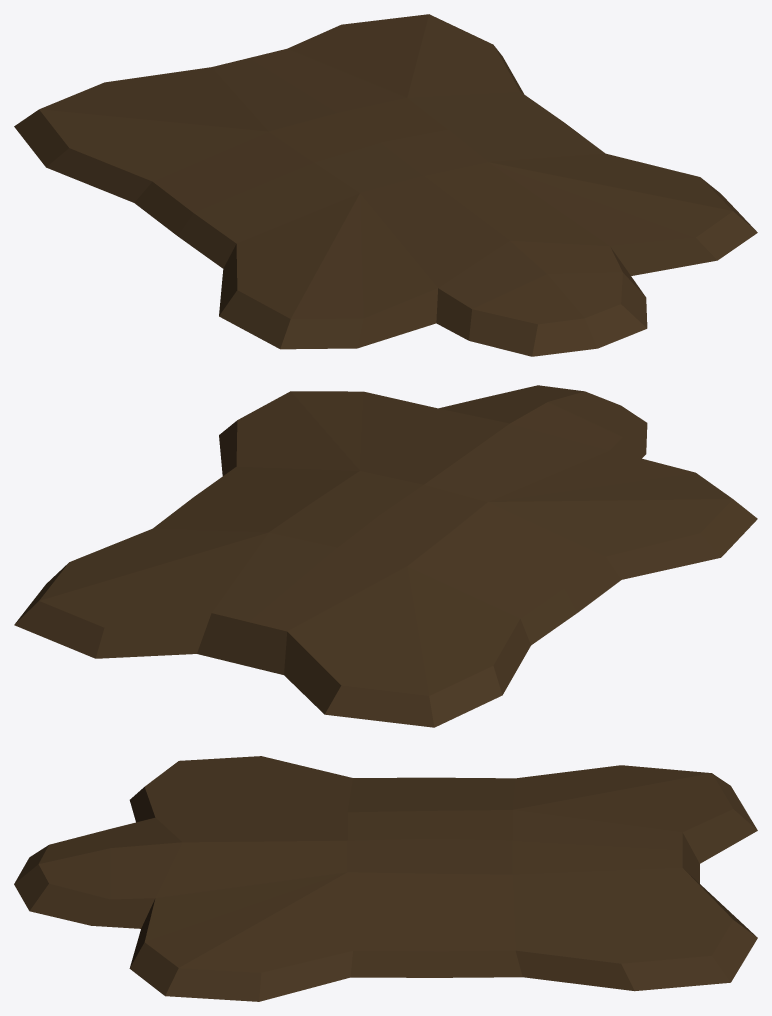
Rendered from Leather.fbx.
The picture shows the model from 3 angles, top to bottom: view 1: azimuth 30°, elevation 25°; view 2: azimuth 150°, elevation 25°; view 3: azimuth 270°, elevation 25°; orthographic projection. The views are drawn at different scales.
Parts seen in each view (by area): view 1: Animal_Skin; view 2: Animal_Skin; view 3: Animal_Skin.
Part boxes in pixels (x1=…): Animal_Skin: x1=14, y1=14, x2=757, y2=356; Animal_Skin: x1=14, y1=385, x2=757, y2=727; Animal_Skin: x1=14, y1=756, x2=757, y2=1001.
Size of the model in its own units: 2.85 by 0.2574 by 3.82.
